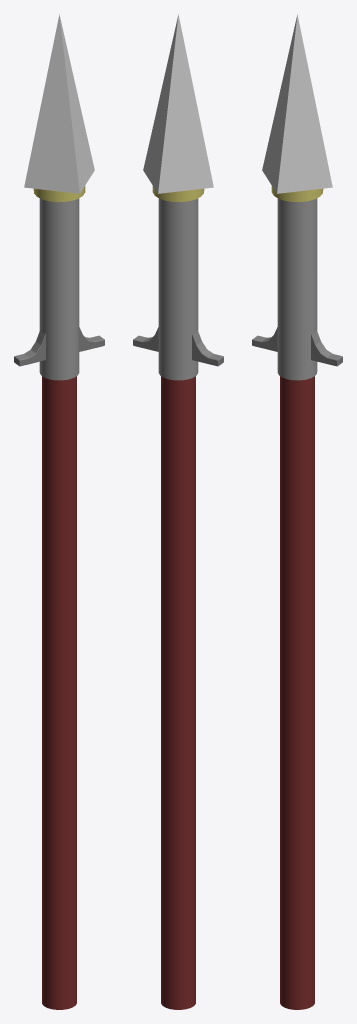
The model's file is Spear_Virtue.fbx.
3 renders of one model, left to right at view 1: azimuth 30°, elevation 25°; view 2: azimuth 150°, elevation 25°; view 3: azimuth 330°, elevation 25°, orthographic.
Visible parts, largest first — view 1: pCylinder4; view 2: pCylinder4; view 3: pCylinder4.
Part boxes in pixels (box(x1,y1,x2,y2)): pCylinder4: box(14, 14, 104, 1009); pCylinder4: box(133, 14, 223, 1009); pCylinder4: box(252, 14, 342, 1009).
Bounding box in the file's own units: 1.99 × 21.94 × 1.64.
